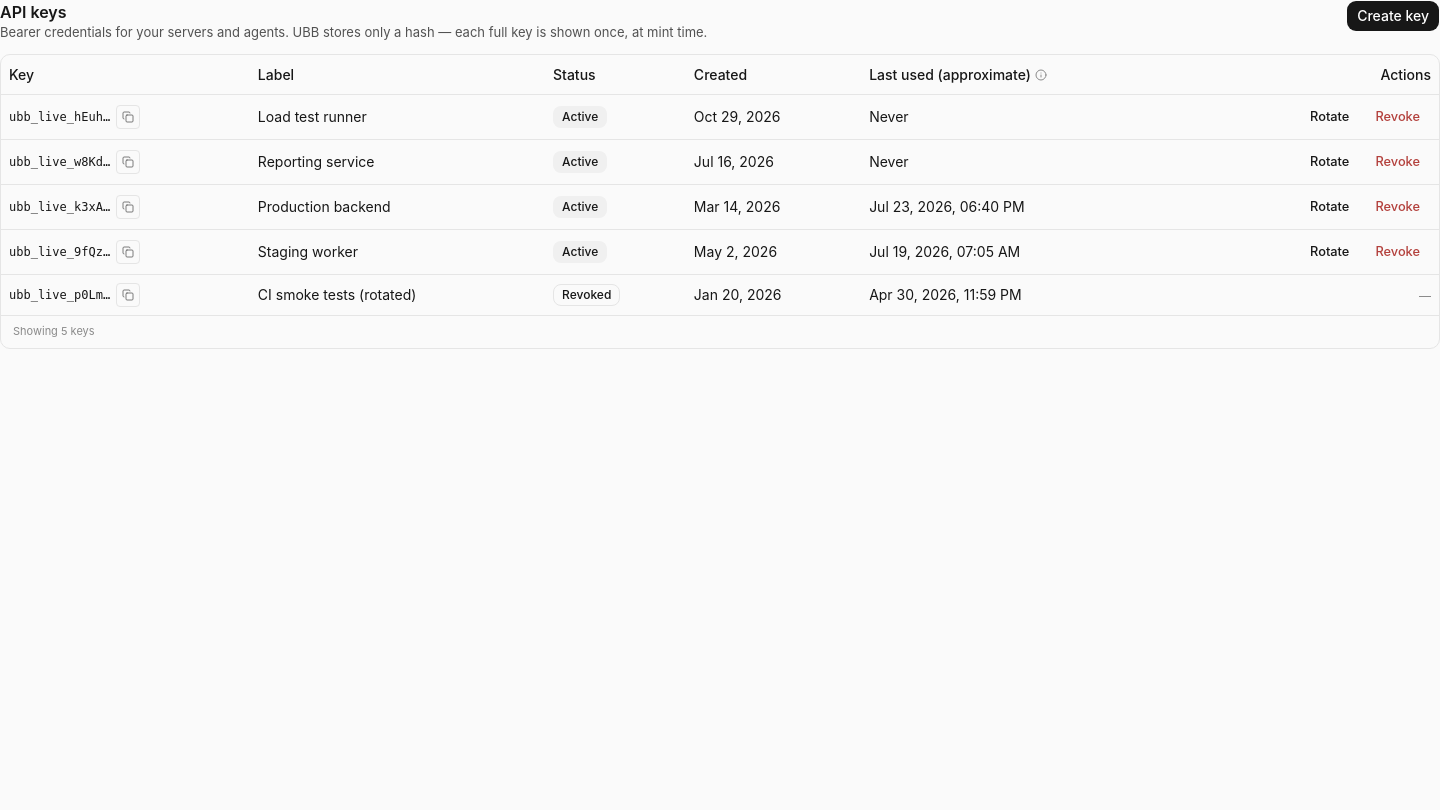
it: ApiKeysSection › asks for confirmation with consequence copy before rotating
Expected: the text "Production backend" is shown, [250,185,545,230]
Click the 1st button "Rotate" at [1330, 117], box [1299,103,1360,131]
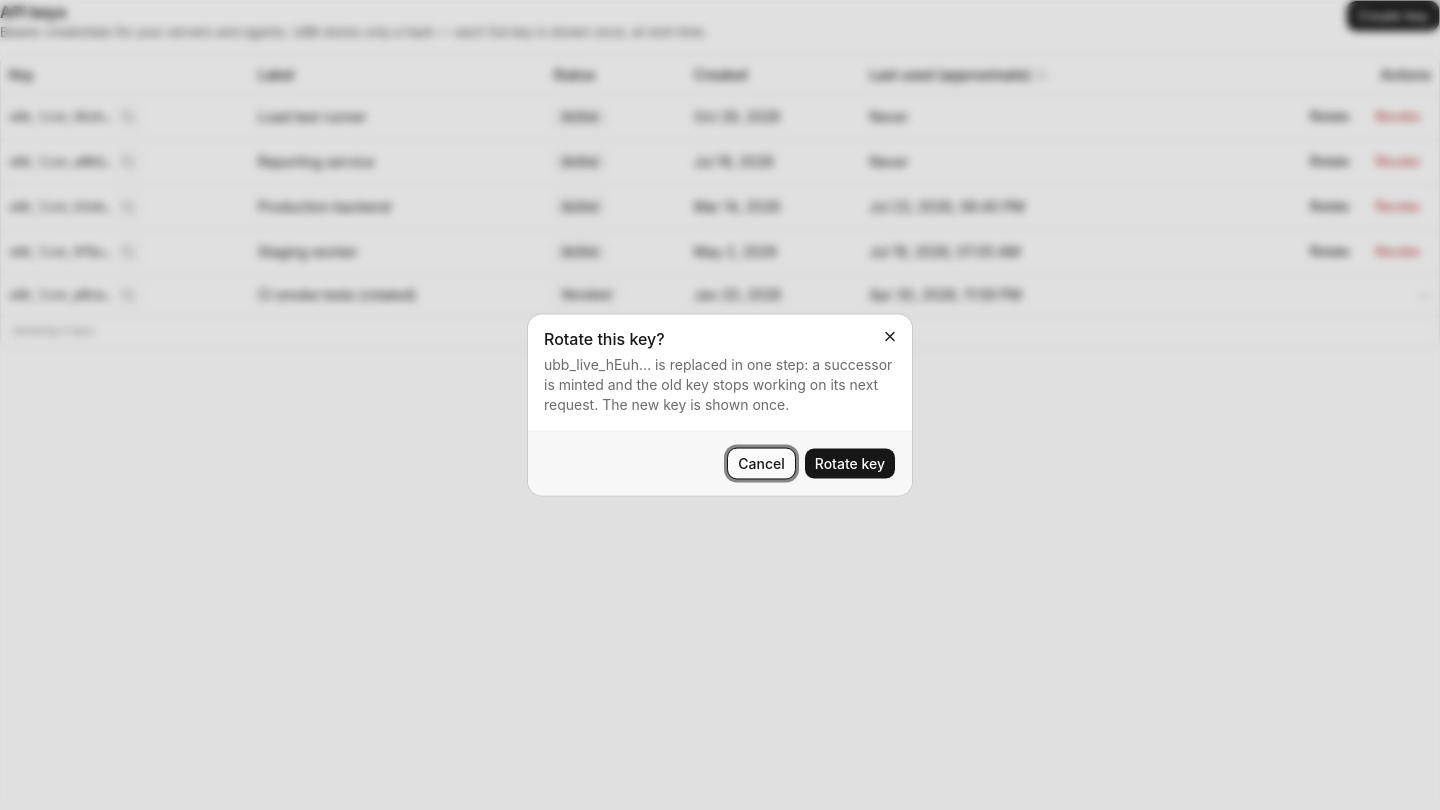
Expected: the heading "Rotate this key?" is shown, [544,328,665,348]
Expected: the text "the old key stops working on its next request" is shown, [544,356,892,412]
